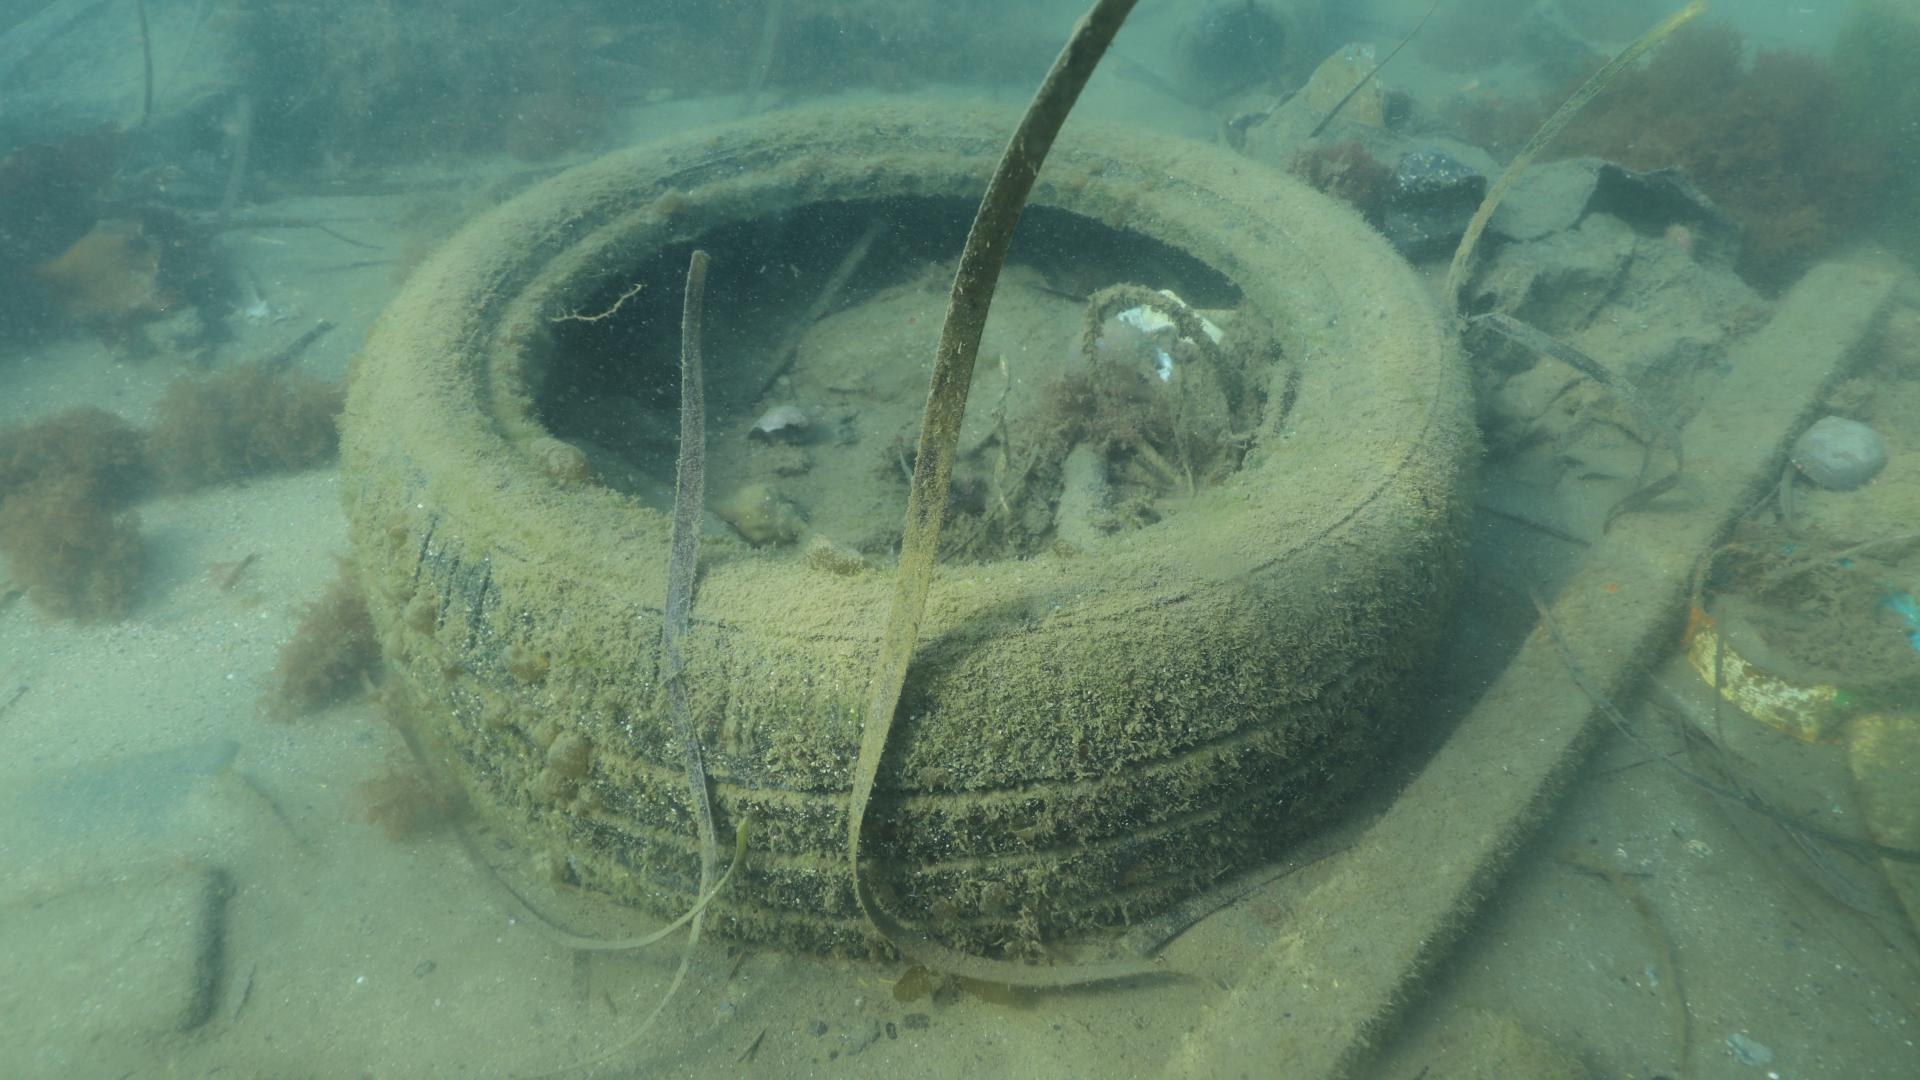tire: (334, 99, 1481, 957)
